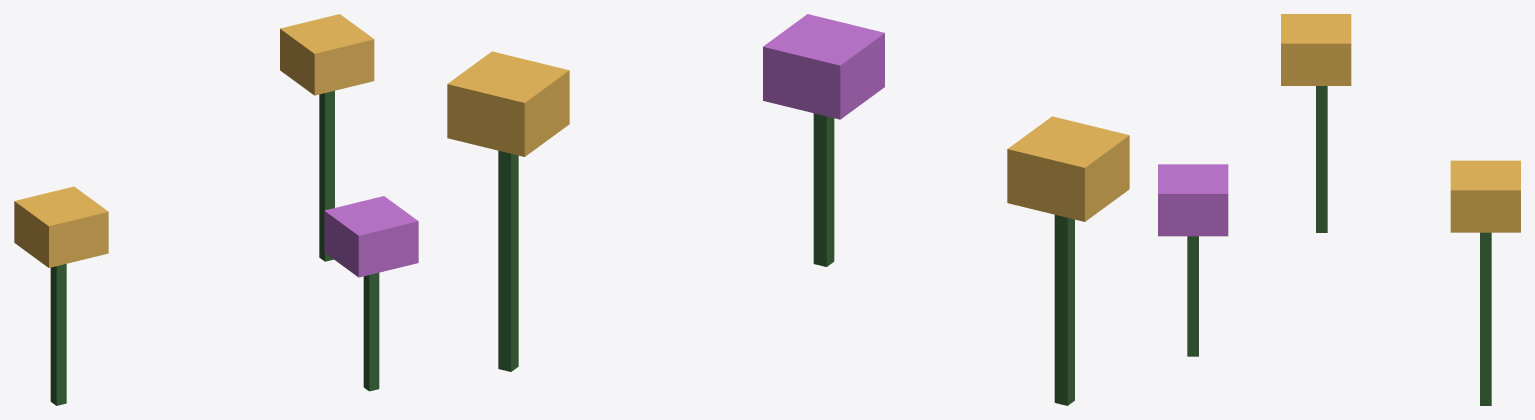
File: flowers.glb
The picture shows the model from 3 angles, left to right: view 1: azimuth 30°, elevation 25°; view 2: azimuth 150°, elevation 25°; view 3: azimuth 270°, elevation 25°; orthographic projection. The views are drawn at different scales.
Parts seen in each view (by area): view 1: flowers; view 2: flowers; view 3: flowers.
Part boxes in pixels (x1=…): flowers: x1=14, y1=14, x2=418, y2=405; flowers: x1=447, y1=14, x2=1129, y2=405; flowers: x1=1158, y1=14, x2=1520, y2=405.
Bounding box in the file's own units: 0.82 × 0.43 × 0.62.
Materials: 1 (1 with a texture image).
